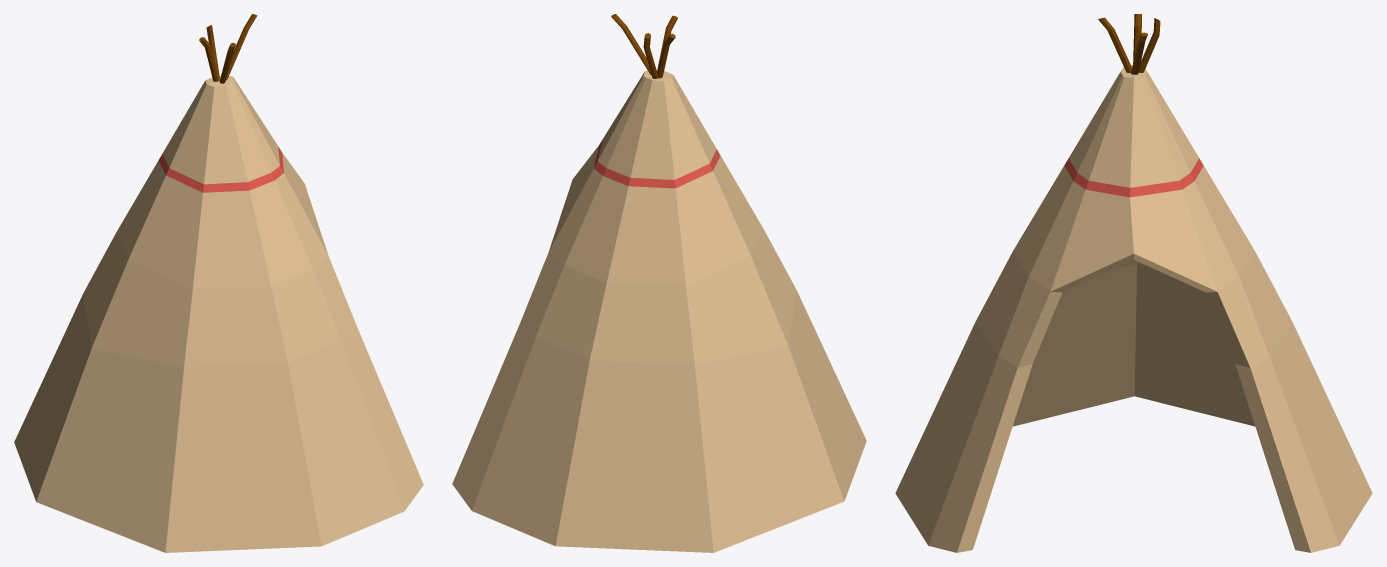
Rendered from teepee.fbx.
The picture shows the model from 3 angles, left to right: view 1: azimuth 30°, elevation 25°; view 2: azimuth 150°, elevation 25°; view 3: azimuth 270°, elevation 25°; orthographic projection. The views are drawn at different scales.
Visible parts, largest first — view 1: Cylinder, Cylinder.001; view 2: Cylinder, Cylinder.001; view 3: Cylinder, Cylinder.001.
Part boxes in pixels (left/top/right/bottom): Cylinder: left=14, top=76, right=423, bottom=552; Cylinder.001: left=199, top=14, right=257, bottom=83; Cylinder: left=452, top=70, right=866, bottom=552; Cylinder.001: left=611, top=14, right=677, bottom=78; Cylinder: left=895, top=65, right=1372, bottom=552; Cylinder.001: left=1098, top=14, right=1160, bottom=74.
Bounding box in the file's own units: 143 × 196 × 175.
